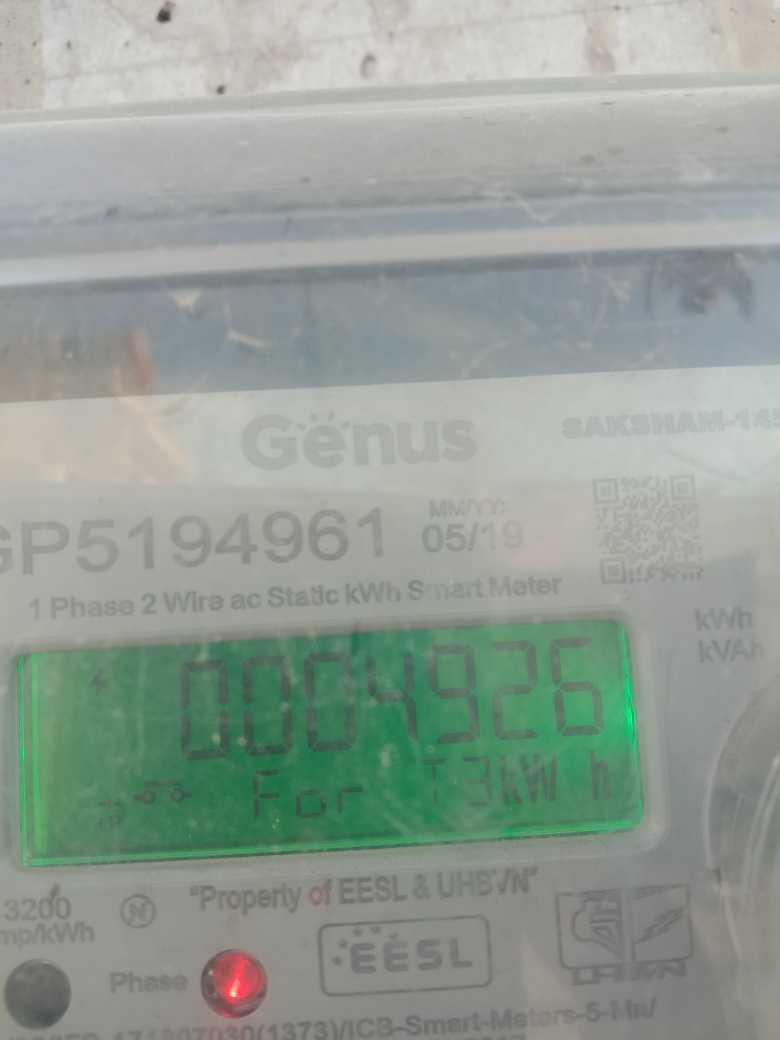.: (494, 751, 615, 811)
1: (303, 634, 364, 758), (238, 641, 300, 757)
3: (488, 631, 544, 743)
5: (363, 641, 421, 750)
7: (548, 632, 606, 739)
8: (168, 643, 229, 762)
:: (424, 633, 482, 754)
